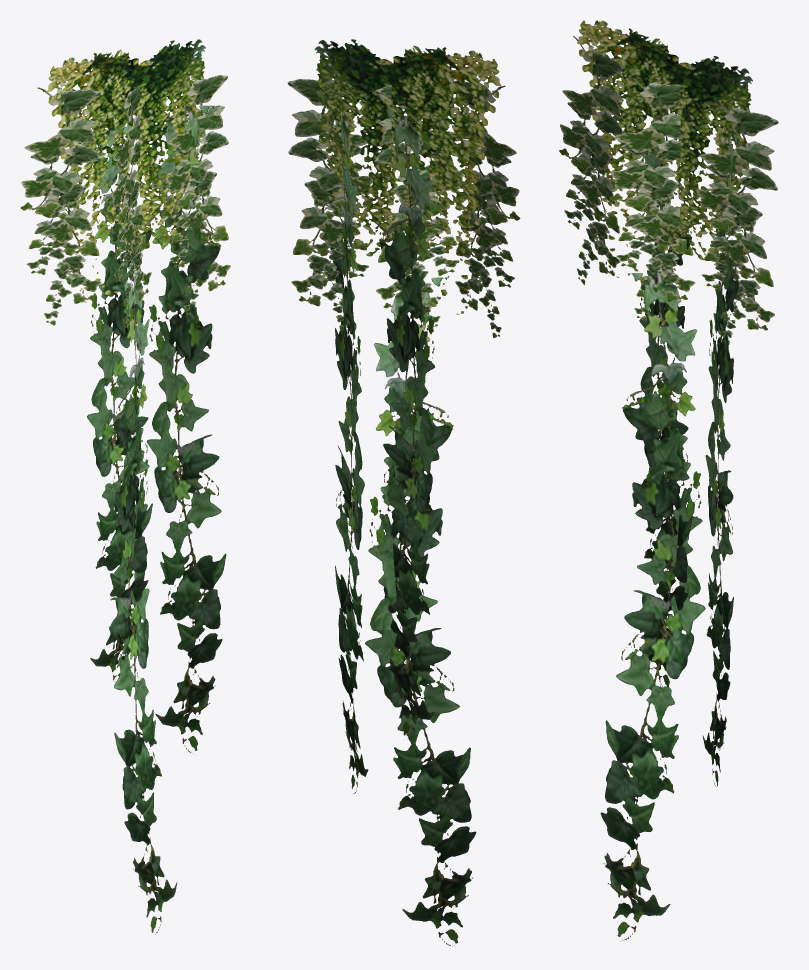
The model's file is Ivy_D.fbx.
3 renders of one model, left to right at view 1: azimuth 30°, elevation 25°; view 2: azimuth 150°, elevation 25°; view 3: azimuth 330°, elevation 25°, orthographic. The views are drawn at different scales.
Parts seen in each view (by area): view 1: Ivy_4; view 2: Ivy_4; view 3: Ivy_4.
Part boxes in pixels (bbox=[...]): Ivy_4: bbox=[20, 39, 230, 934]; Ivy_4: bbox=[287, 39, 520, 946]; Ivy_4: bbox=[559, 20, 778, 940].
Size of the model in its own units: 341 by 1238 by 158.
